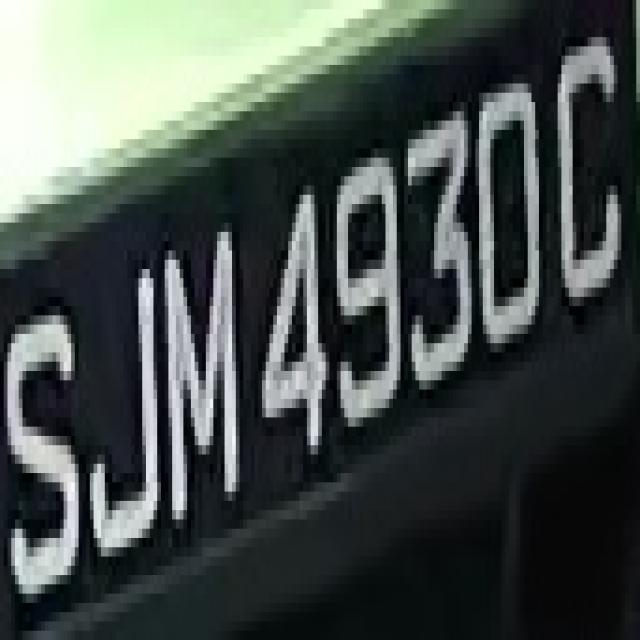0: (460, 65, 543, 362)
3: (393, 102, 475, 408)
4: (247, 176, 337, 455)
9: (326, 121, 404, 436)
C: (550, 46, 633, 325)
J: (86, 250, 161, 566)
M: (153, 204, 240, 538)
S: (0, 4, 1, 9)
